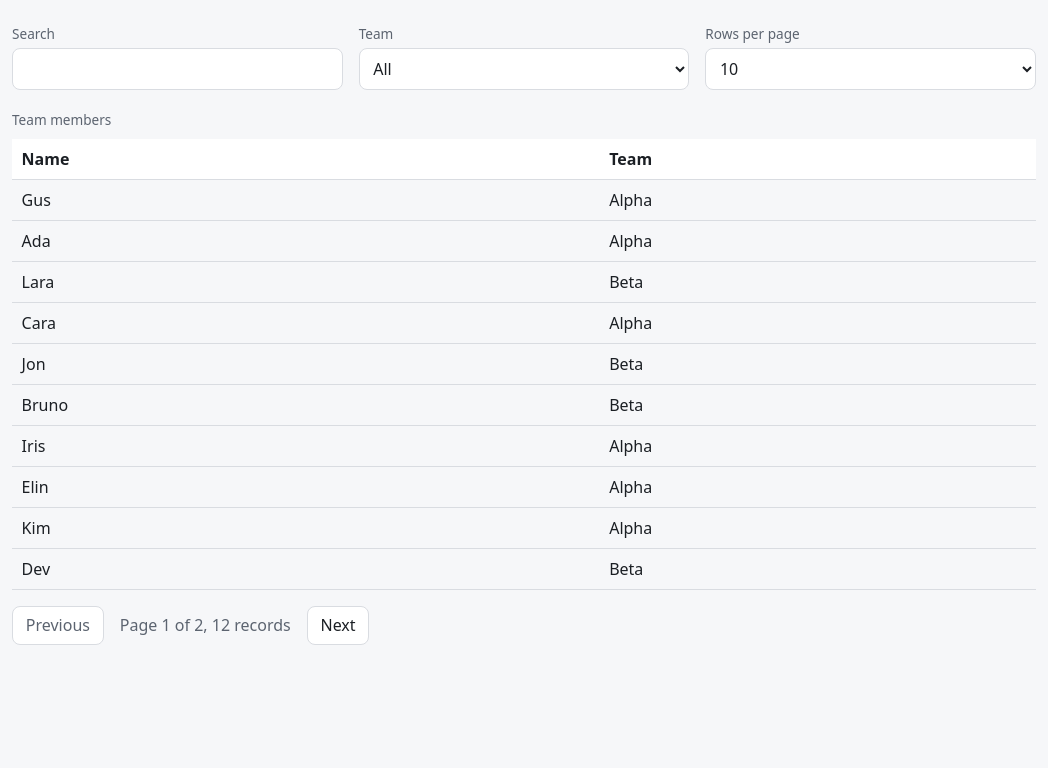
Test case: DataTable › pages the rows and changes the page size
Step 1. Click the button "Next" → (338, 625), box [307,606,369,645]
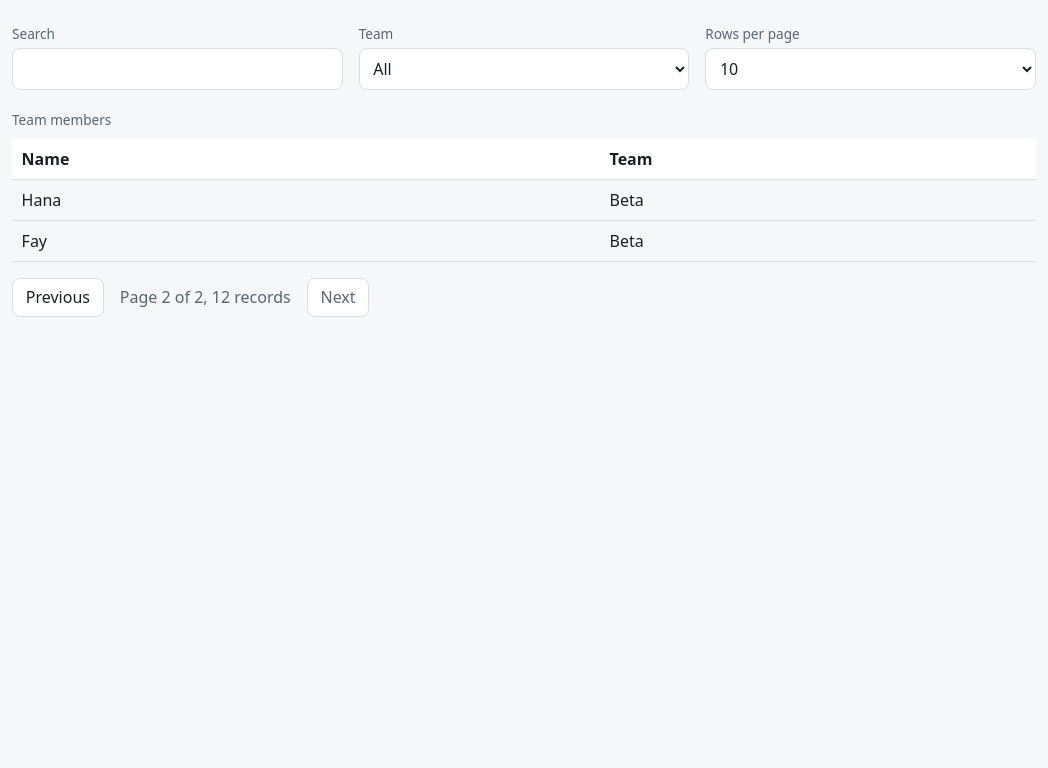
Expected: the text "Page 2 of 2, 12 records" is shown, [120,285,291,309]
Step 2. Select "25" in the dropdown labelled "Rows per page" → (871, 69), box [705,48,1036,90]
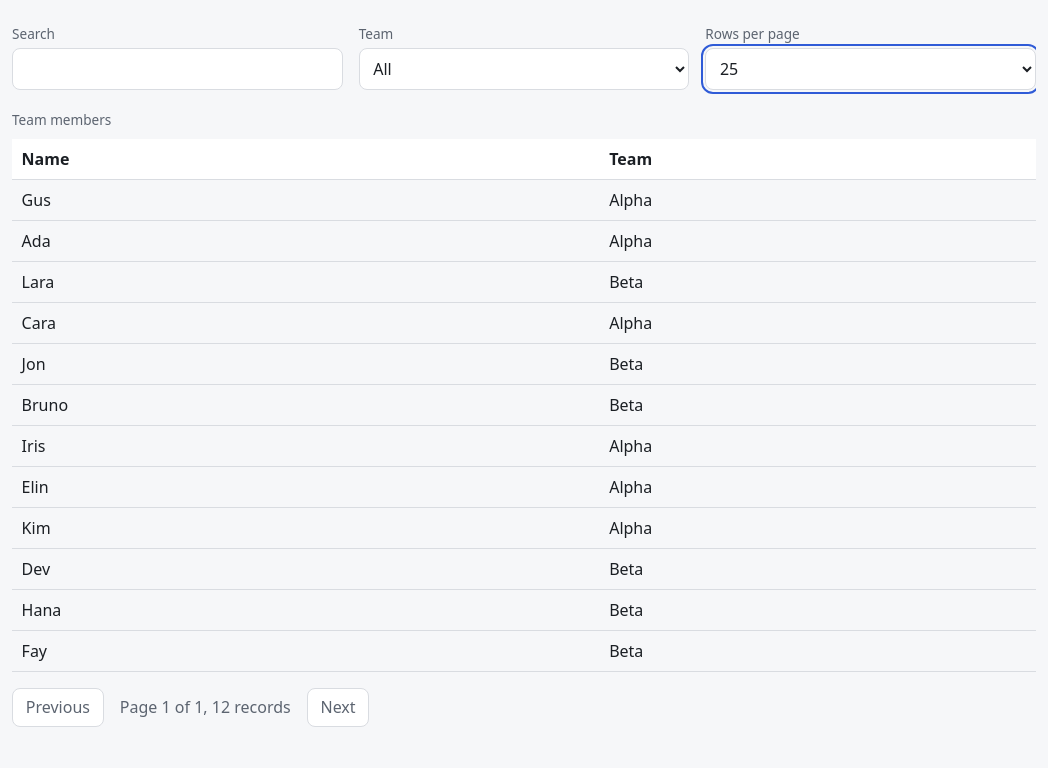
Expected: the text "Page 1 of 1, 12 records" is shown, [120,695,291,719]
